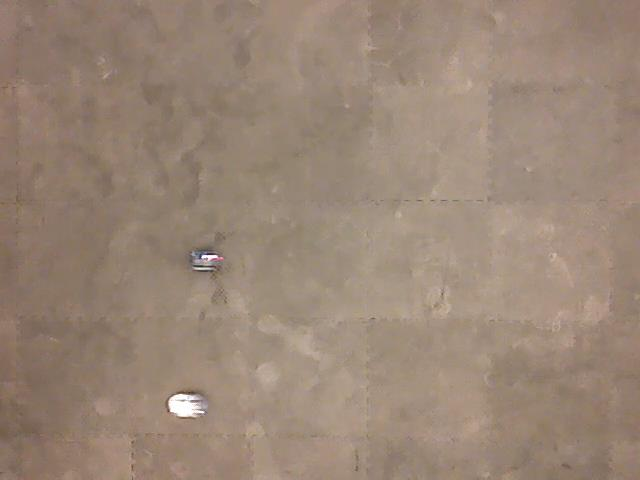Agent: (164, 390, 210, 420), (186, 245, 227, 274)
